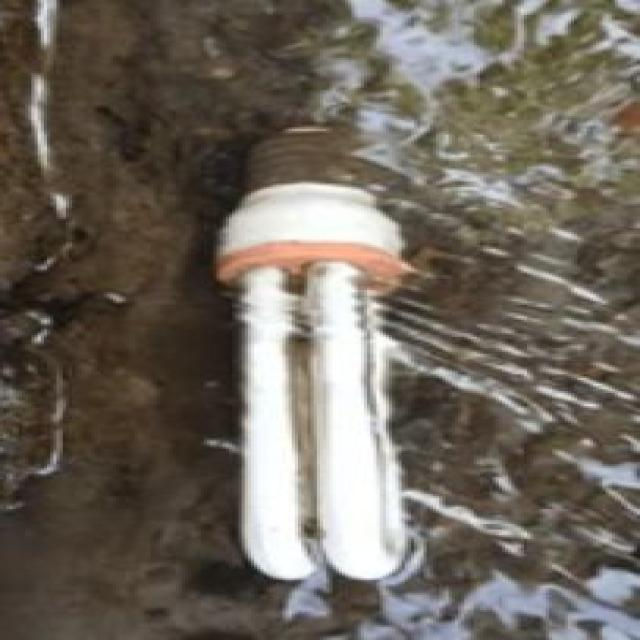electronic: (210, 125, 420, 582)
